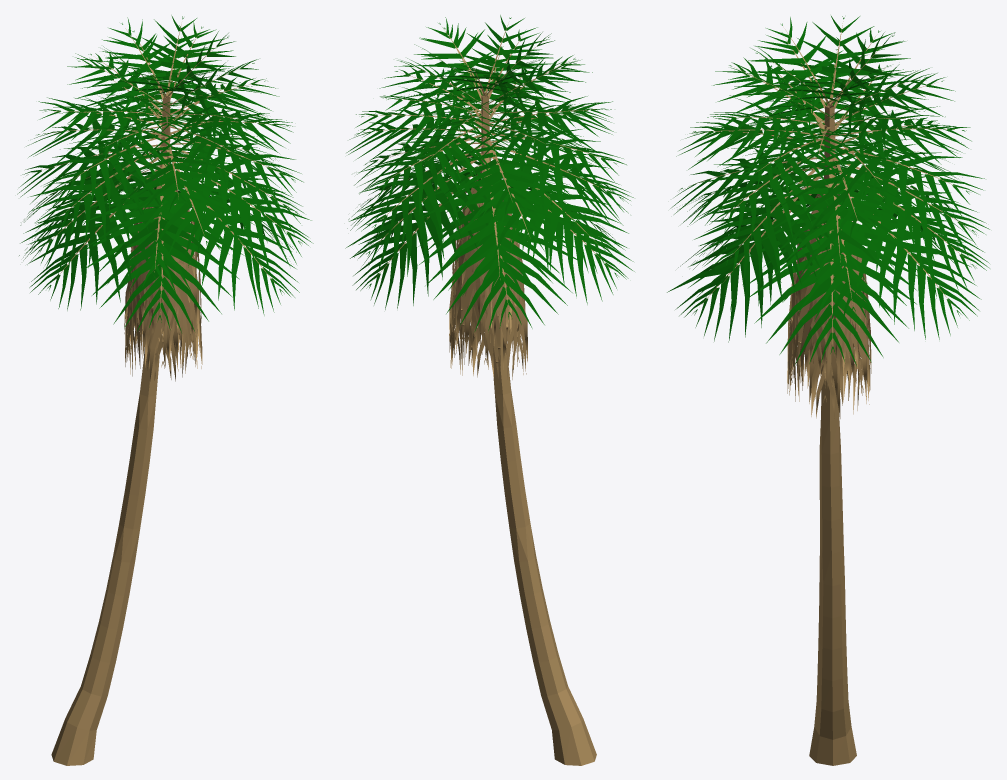
Rendered from Palm3.FBX.
3 views of the same model, side by side, from view 1: azimuth 30°, elevation 25°; view 2: azimuth 150°, elevation 25°; view 3: azimuth 270°, elevation 25° (orthographic). The views are drawn at different scales.
Parts seen in each view (by area): view 1: Palm3_2, Palm3_1, Palm3_3; view 2: Palm3_2, Palm3_1, Palm3_3; view 3: Palm3_2, Palm3_1, Palm3_3.
Boxes of the visible parts, <box> form: Palm3_2: <box>17,15,313,332</box>; Palm3_1: <box>51,96,170,765</box>; Palm3_3: <box>124,170,202,381</box>; Palm3_2: <box>345,15,634,331</box>; Palm3_1: <box>481,95,596,765</box>; Palm3_3: <box>449,170,527,379</box>; Palm3_2: <box>667,16,989,365</box>; Palm3_1: <box>809,105,856,765</box>; Palm3_3: <box>787,185,871,418</box>.
Bounding box in the file's own units: 213 × 545 × 212.
